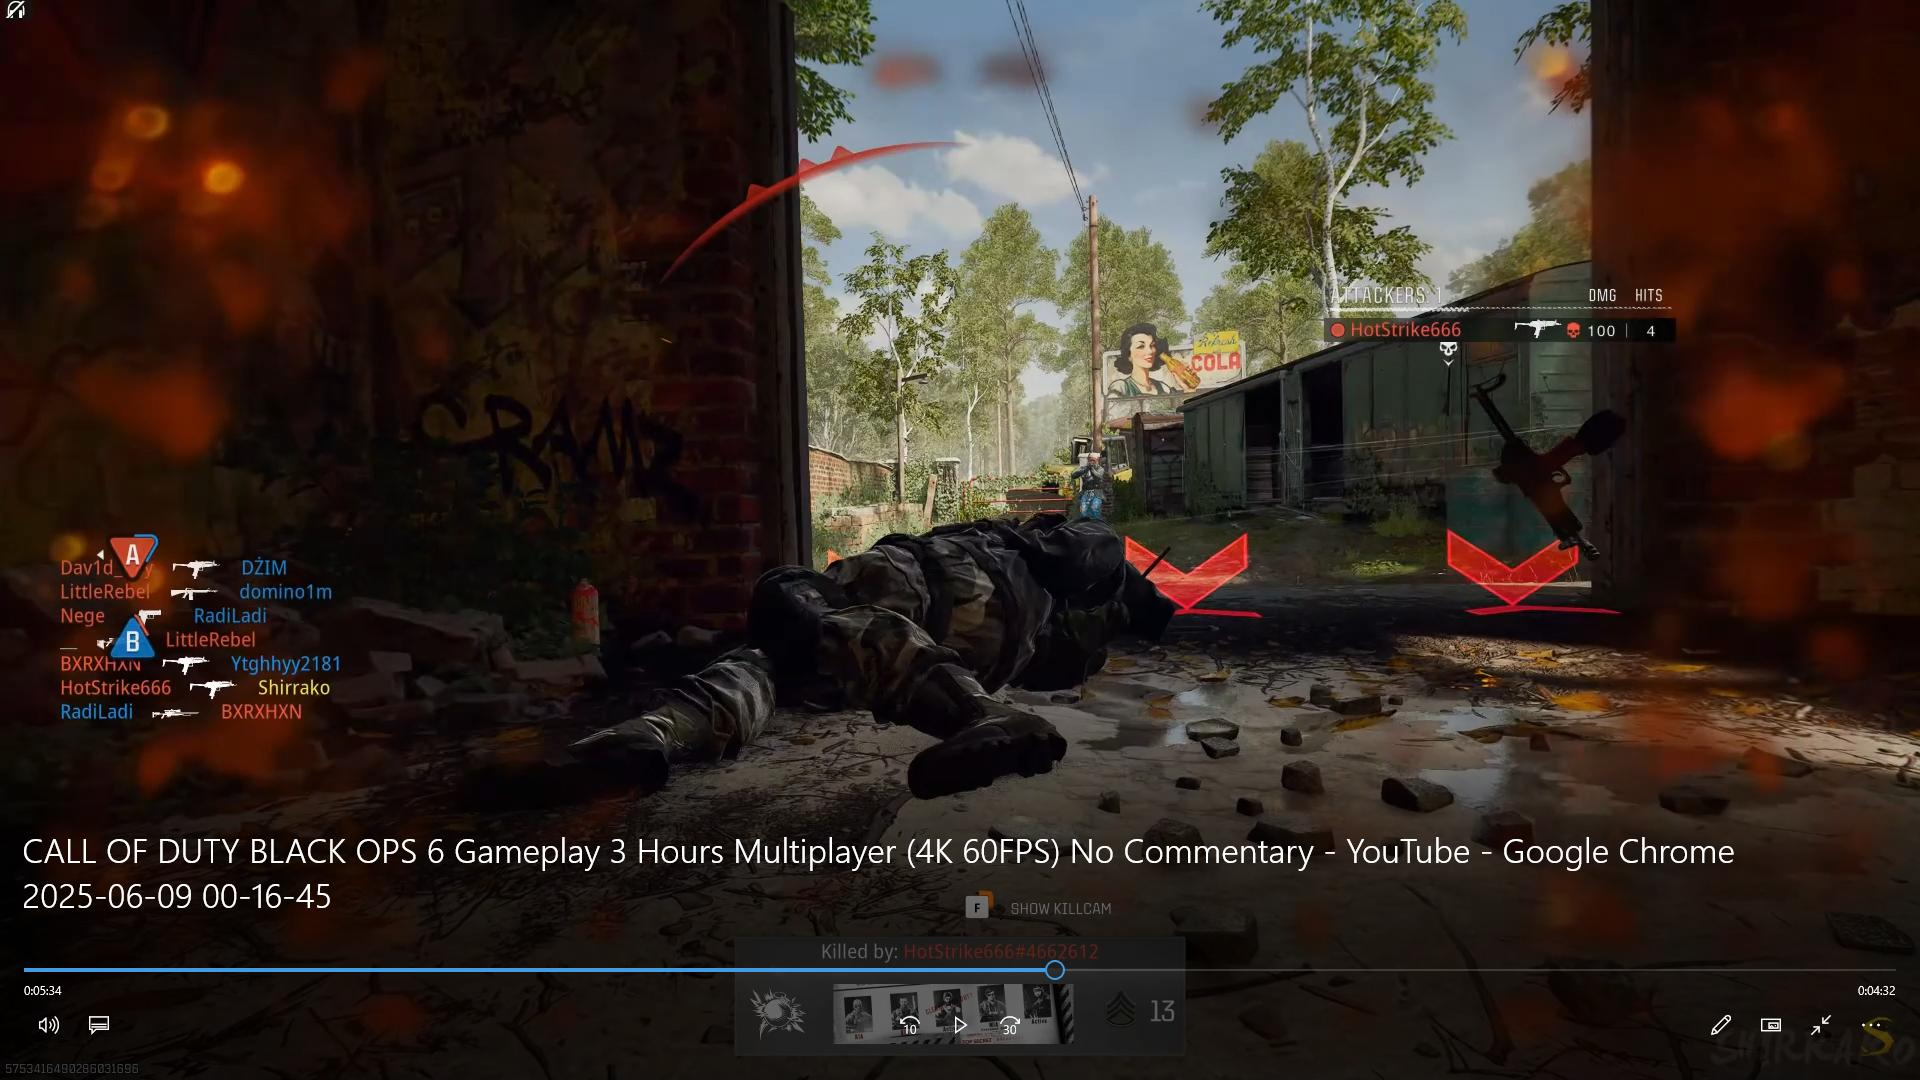Enemy: (1068, 447, 1114, 522)
